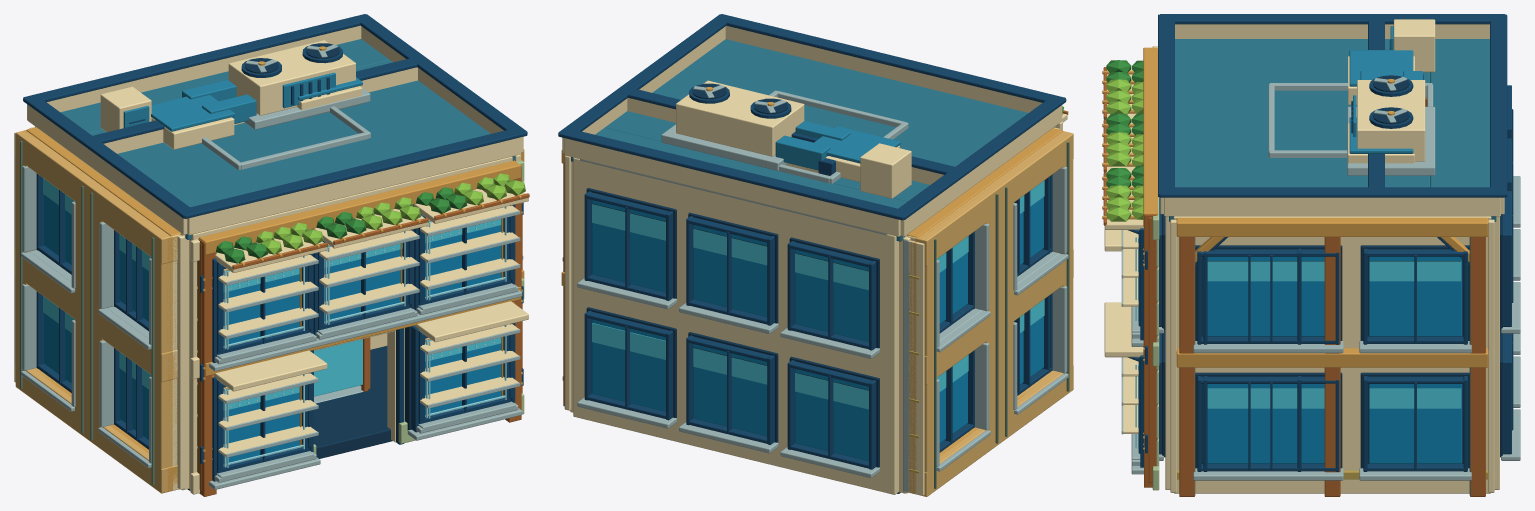
Rendered from components.glb.
3 renders of one model, left to right at view 1: azimuth 30°, elevation 25°; view 2: azimuth 150°, elevation 25°; view 3: azimuth 270°, elevation 25°, orthographic. The views are drawn at different scales.
Parts seen in each view (by area): view 1: Layout_P2_RoofMesh, Card_I2_Mesh, Layout_P1_RoofMesh, Layout_P2_Walls, Card_W2_Mesh, Card_W1_Mesh, Card_W3_Mesh, Layout_P1_Walls, Card_M3_Mesh, Card_T1_Mesh, Card_S4_Mesh, Card_S1_Mesh (+26 smaller); view 2: Layout_P2_Walls, Layout_P2_RoofMesh, Card_I2_Mesh, Layout_P1_RoofMesh, Card_T1_Mesh, Card_I3_Mesh, Layout_P1_Walls, Card_T3_RoofMount_Mesh, Card_I4_SideMount_Mesh, Card_I1_Mesh, Card_M3_SideMount_Mesh, Vent_Roof_0_Mesh (+1 smaller); view 3: Layout_P2_Walls, Layout_P2_RoofMesh, Layout_P1_Walls, Layout_P1_RoofMesh, Card_M3_SideMount_Mesh, Card_T1_Mesh, Card_S4_Mesh, Card_I4_SideMount_Mesh, Card_M3_Mesh, Card_S1_Mesh, Card_M1_Mesh, Card_T3_RoofMount_Mesh (+12 smaller).
Boxes of the visible parts, x1,y1,x2,y2 form: Layout_P2_RoofMesh: (23, 14, 527, 239); Card_I2_Mesh: (14, 130, 179, 493); Layout_P1_RoofMesh: (80, 55, 527, 239); Layout_P2_Walls: (30, 126, 523, 472); Card_W2_Mesh: (209, 204, 522, 489); Card_W1_Mesh: (214, 215, 518, 482); Card_W3_Mesh: (217, 206, 515, 478); Layout_P1_Walls: (111, 156, 512, 490); Card_M3_Mesh: (198, 160, 521, 496); Card_T1_Mesh: (182, 40, 370, 129); Card_S4_Mesh: (216, 173, 529, 269); Card_S1_Mesh: (215, 189, 528, 391); Layout_P2_Walls: (562, 127, 1059, 494); Layout_P2_RoofMesh: (558, 18, 1066, 241); Card_I2_Mesh: (903, 131, 1073, 496); Layout_P1_RoofMesh: (616, 14, 1065, 192); Card_T1_Mesh: (661, 80, 850, 175); Card_I3_Mesh: (904, 159, 1060, 494); Layout_P1_Walls: (786, 163, 1050, 395); Card_T3_RoofMount_Mesh: (860, 143, 911, 198); Card_I4_SideMount_Mesh: (564, 127, 1059, 493); Card_I1_Mesh: (905, 174, 1053, 492); Card_M3_SideMount_Mesh: (561, 128, 1062, 406); Vent_Roof_0_Mesh: (814, 126, 900, 163); Layout_P2_Walls: (1159, 85, 1520, 493); Layout_P2_RoofMesh: (1158, 14, 1507, 221); Layout_P1_Walls: (1159, 197, 1368, 493); Layout_P1_RoofMesh: (1158, 14, 1384, 221); Card_M3_SideMount_Mesh: (1176, 217, 1488, 496); Card_T1_Mesh: (1347, 71, 1435, 175); Card_S4_Mesh: (1102, 60, 1143, 225); Card_I4_SideMount_Mesh: (1170, 219, 1494, 492); Card_M3_Mesh: (1143, 47, 1157, 487); Card_S1_Mesh: (1104, 69, 1143, 361); Card_M1_Mesh: (1143, 217, 1157, 482); Card_T3_RoofMount_Mesh: (1389, 19, 1435, 72).
Size of the model in its own units: 3.81 by 3.03 by 3.42.
Materials: 27 (2 with a texture image).
